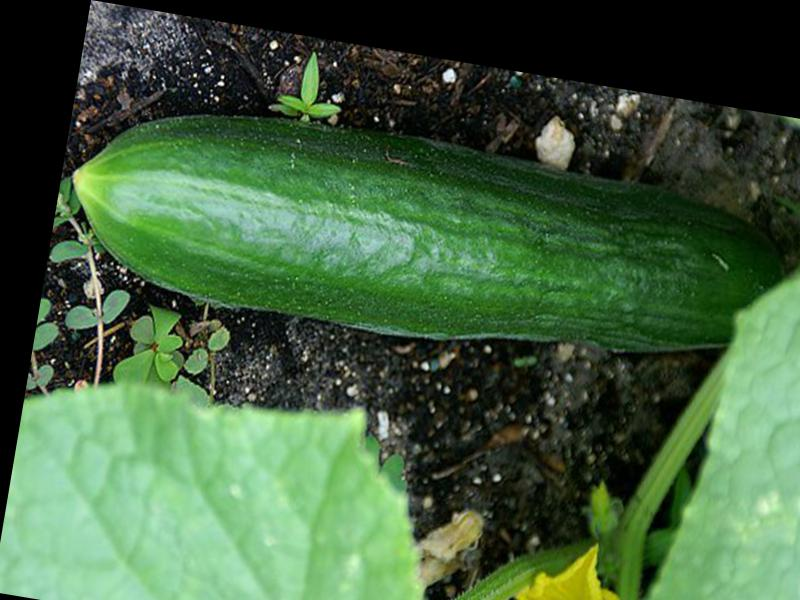Cucumber: (53, 81, 796, 397)
